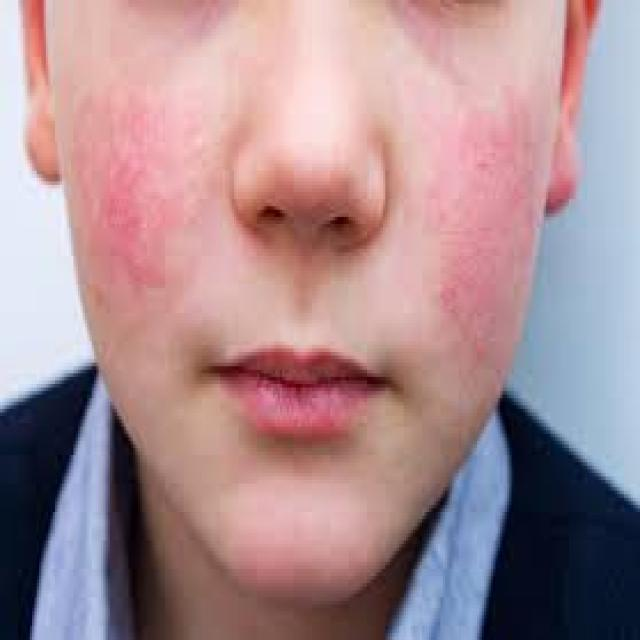Eczema: (66, 88, 180, 293), (429, 134, 522, 367)
